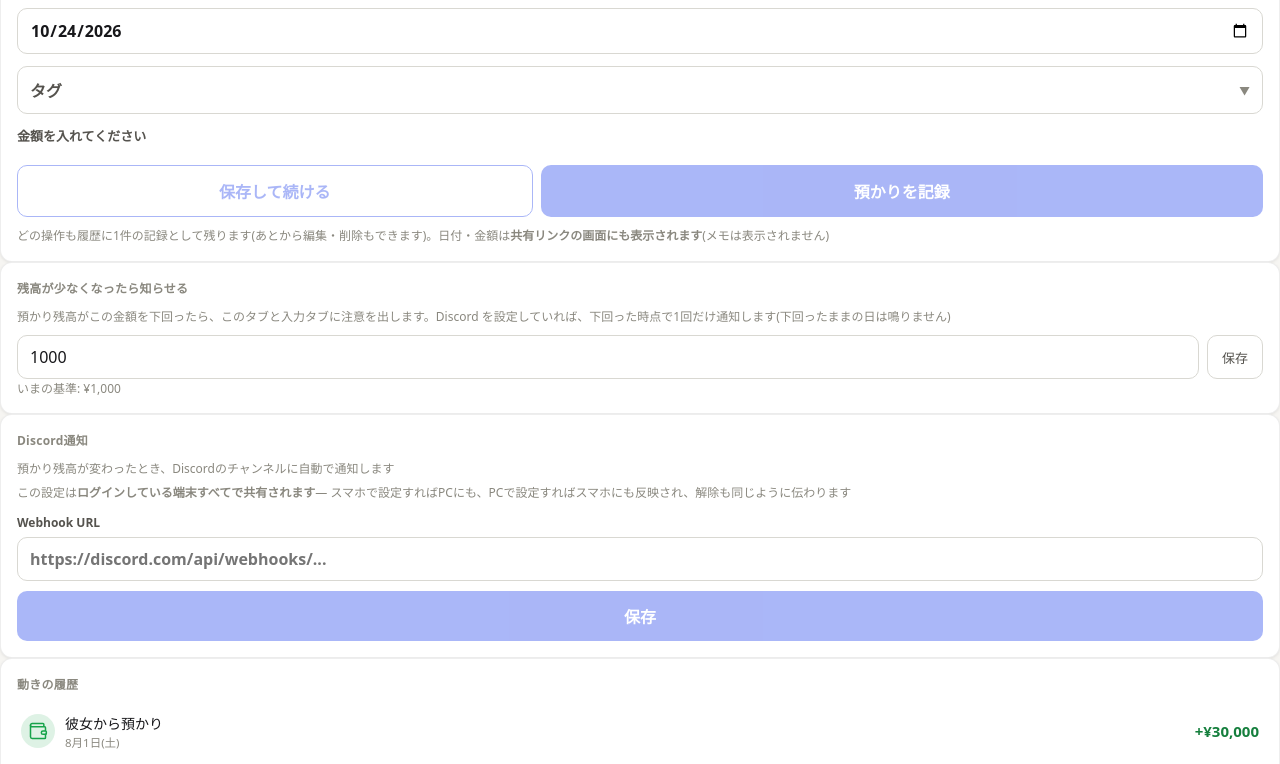
Discord通知の設定 › 保存後の表示は伏字で、秘密のトークンは出さない
(page scrolled)
Type "https://discord.com/api/webhooks/1234567890123456789/SECRET-TOKEN-abcdefghij" into the field labelled "Webhook URL". click: point(640, 559)
box: [17,537,1263,581]
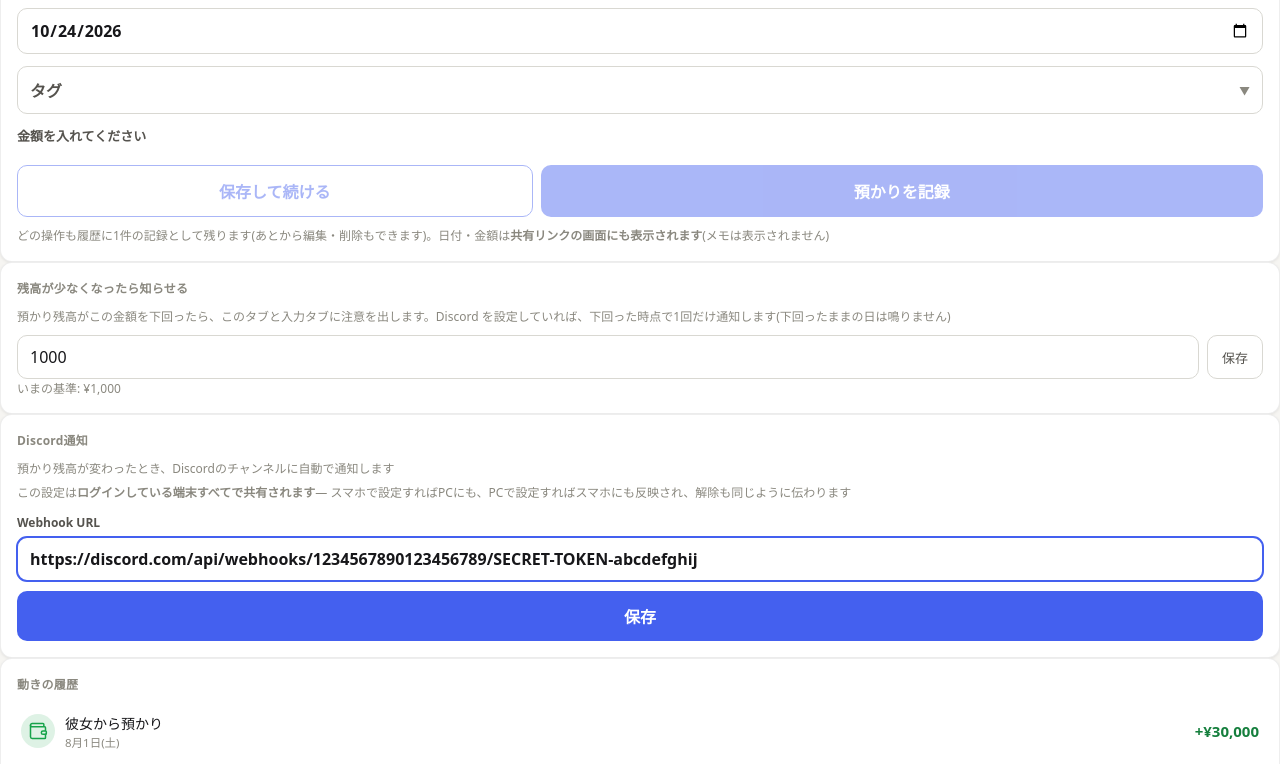
Click the button "保存" below "Webhook URL". click: point(640, 616)
box: [17,591,1263,641]
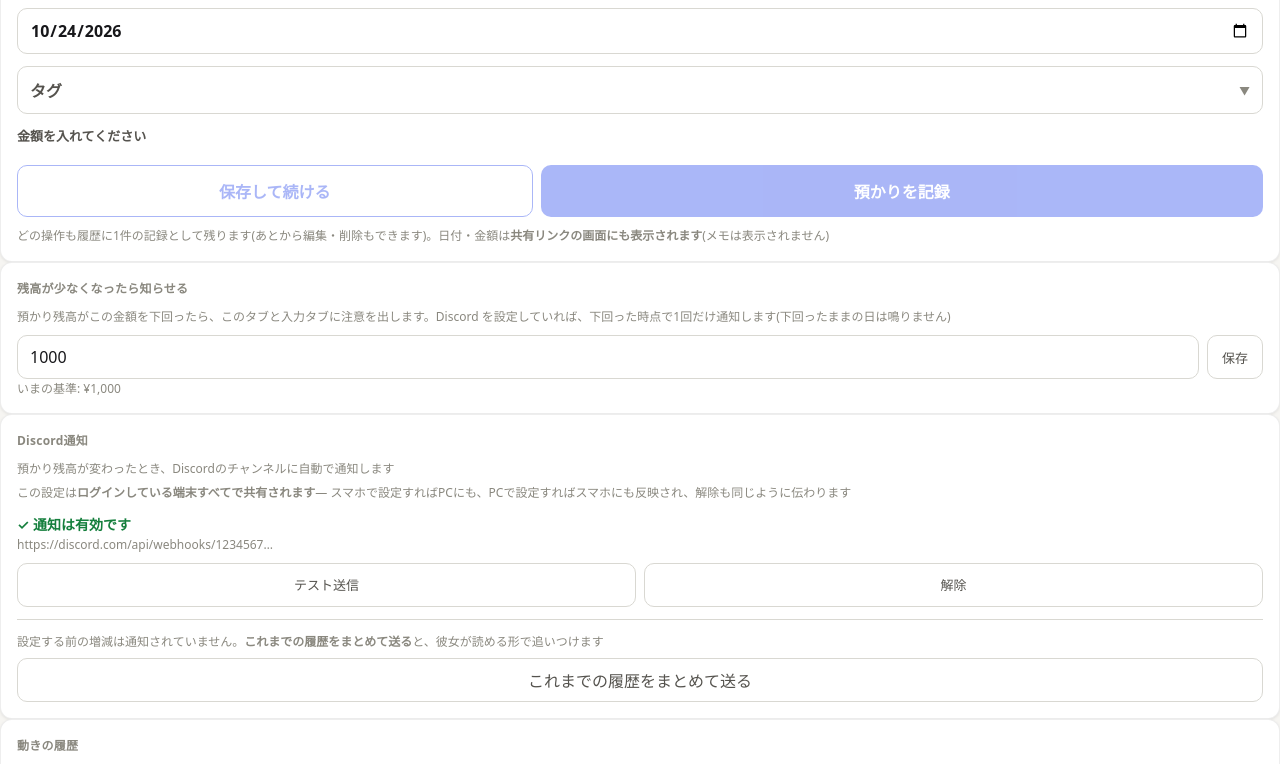
Check: the text "SECRET-TOKEN" is not shown
Check: the text "✓ 通知は有効です" is shown, box [17,515,131,534]
Check: the text "https://discord.com/api/webhooks/1234567" is shown, box [17,536,273,553]
